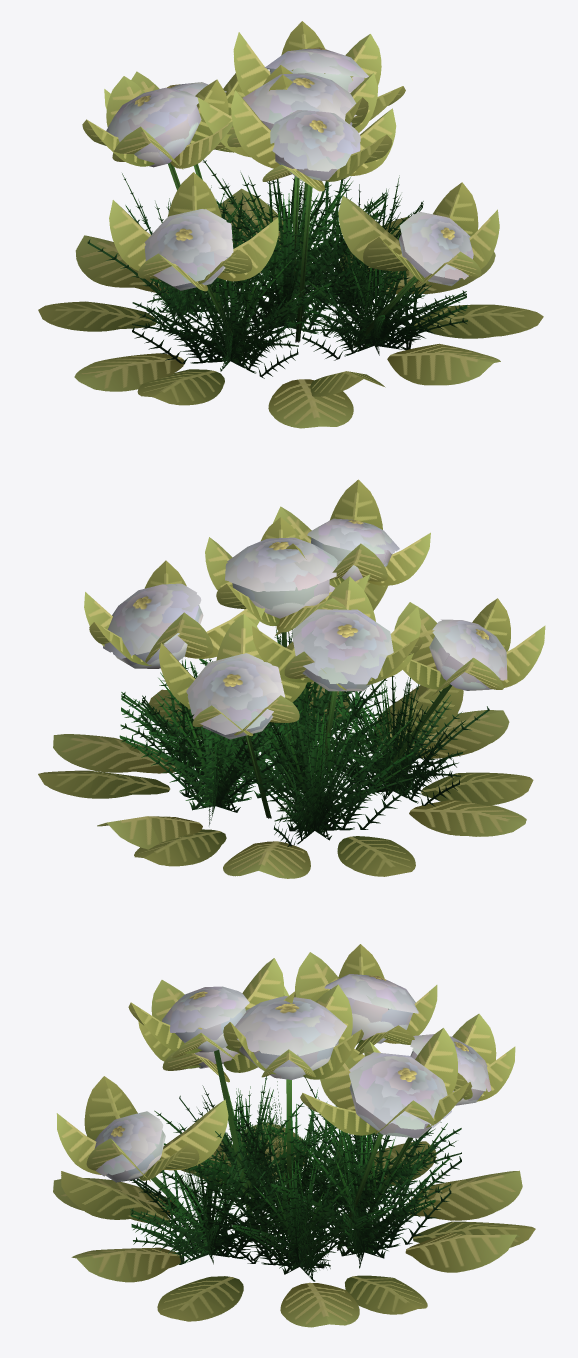
File: mm7_deco_flower05.glb
The picture shows the model from 3 angles, top to bottom: view 1: azimuth 30°, elevation 25°; view 2: azimuth 150°, elevation 25°; view 3: azimuth 270°, elevation 25°; orthographic projection. The views are drawn at different scales.
Parts seen in each view (by area): view 1: Plant; view 2: Plant; view 3: Plant.
Boxes of the visible parts, x1,y1,x2,y2 form: Plant: (38,21,543,428); Plant: (38,479,545,878); Plant: (53,944,535,1327).
Size of the model in its own units: 2.53 by 1.35 by 2.66.
Materials: 1 (1 with a texture image).
